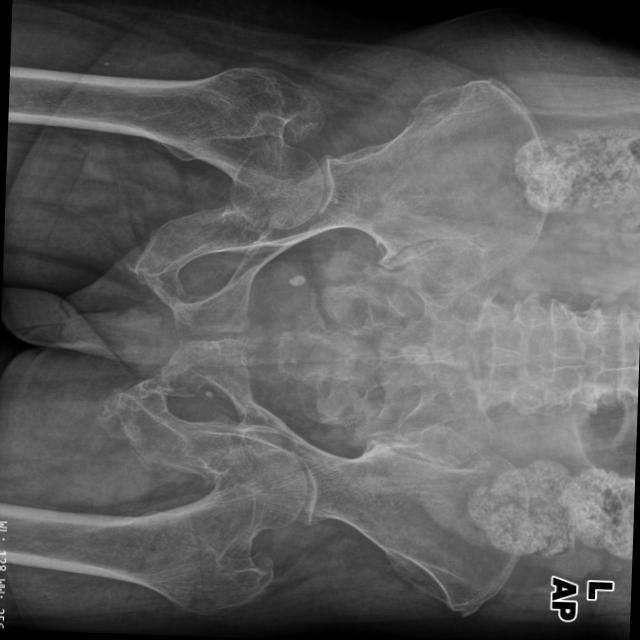normal-left: (54, 445, 306, 616)
normal-right: (74, 68, 324, 228)
